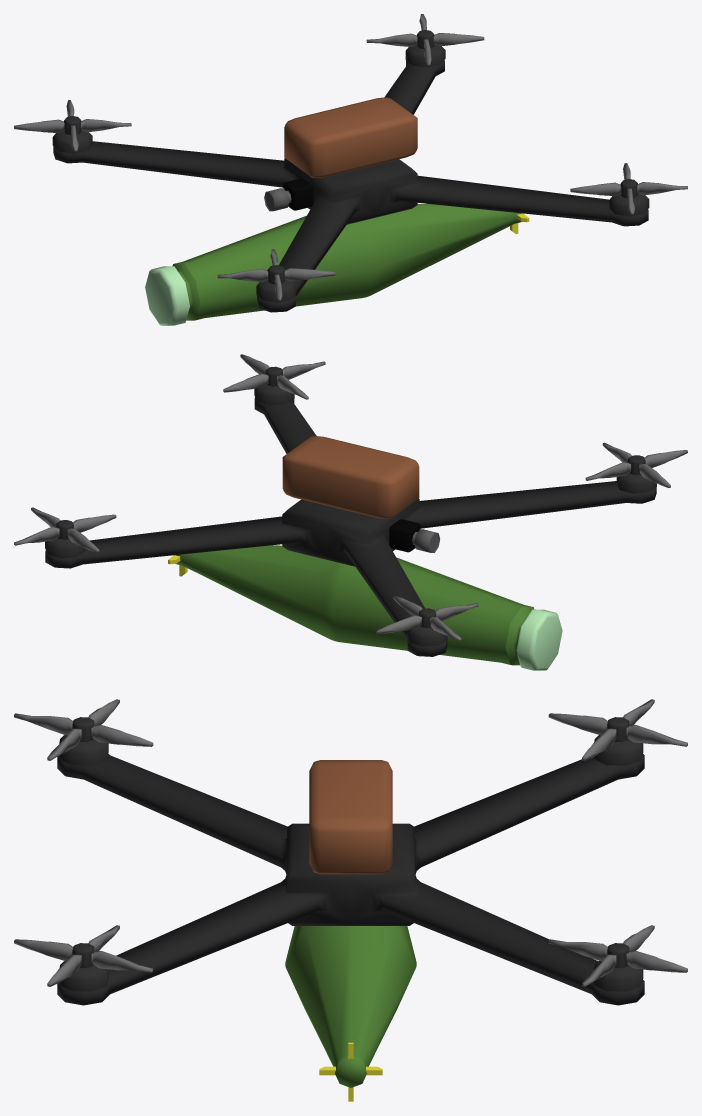
File: Drone1.fbx
3 renders of one model, top to bottom at view 1: azimuth 30°, elevation 25°; view 2: azimuth 150°, elevation 25°; view 3: azimuth 270°, elevation 25°, orthographic. The views are drawn at different scales.
Parts seen in each view (by area): view 1: Body, BOMB, Battery, FrontL, FrontR, BackR, BackL, Camera.001; view 2: Body, BOMB, Battery, BackR, FrontR, FrontL, BackL, Camera.001; view 3: Body, BOMB, Battery, BackL, FrontR, FrontL, BackR.
Part boxes in pixels (bbox=[...]): Body: bbox=[53, 60, 648, 312]; BOMB: bbox=[145, 203, 521, 325]; Battery: bbox=[284, 97, 417, 178]; FrontL: bbox=[14, 100, 131, 153]; FrontR: bbox=[217, 249, 335, 302]; BackR: bbox=[570, 163, 687, 216]; BackL: bbox=[366, 14, 484, 67]; Camera.001: bbox=[264, 178, 313, 211]; Body: bbox=[45, 397, 656, 656]; BOMB: bbox=[175, 545, 562, 670]; Battery: bbox=[282, 436, 419, 518]; BackR: bbox=[223, 354, 325, 405]; FrontR: bbox=[585, 442, 687, 493]; FrontL: bbox=[376, 596, 478, 646]; BackL: bbox=[14, 507, 116, 558]; Camera.001: bbox=[389, 519, 439, 552]; Body: bbox=[57, 754, 644, 1005]; BOMB: bbox=[285, 926, 416, 1087]; Battery: bbox=[309, 760, 392, 874]; BackL: bbox=[548, 925, 687, 991]; FrontR: bbox=[14, 699, 153, 765]; FrontL: bbox=[548, 699, 687, 765]; BackR: bbox=[14, 925, 153, 991].
Bounding box in the file's own units: 52.54 × 20.27 × 52.54.
